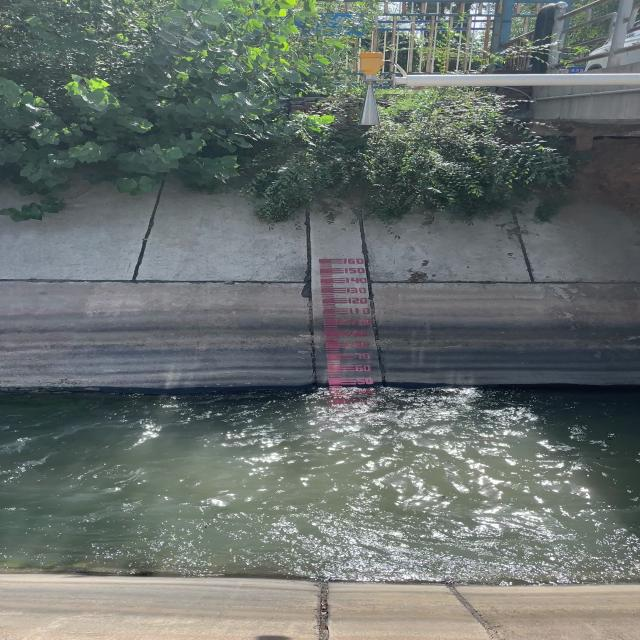ruler: (313, 253, 385, 392)
value: (348, 318, 374, 327), (346, 296, 372, 304), (347, 308, 373, 316), (346, 286, 369, 295), (344, 277, 369, 285), (355, 376, 375, 386), (342, 257, 366, 265), (350, 328, 369, 338), (350, 340, 371, 349), (353, 364, 372, 373), (353, 352, 372, 361), (344, 267, 366, 274)
